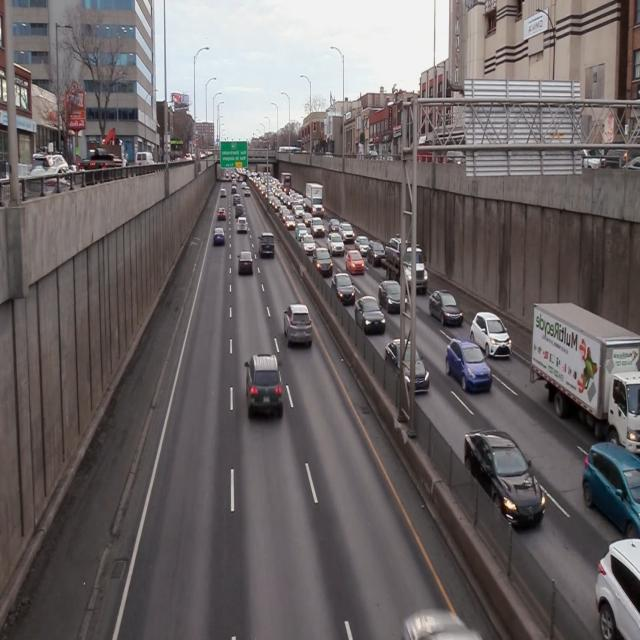Vehicle: (534, 308, 640, 454), (464, 432, 545, 530), (583, 443, 639, 541), (244, 352, 284, 422), (445, 337, 493, 394), (383, 239, 428, 292), (386, 344, 429, 396), (469, 310, 512, 360), (429, 290, 463, 330), (284, 304, 314, 348), (355, 297, 386, 338), (380, 280, 406, 315), (333, 274, 354, 304), (256, 231, 276, 262), (313, 247, 333, 276), (347, 250, 365, 276), (239, 248, 254, 279), (212, 227, 225, 245), (236, 218, 246, 234)
